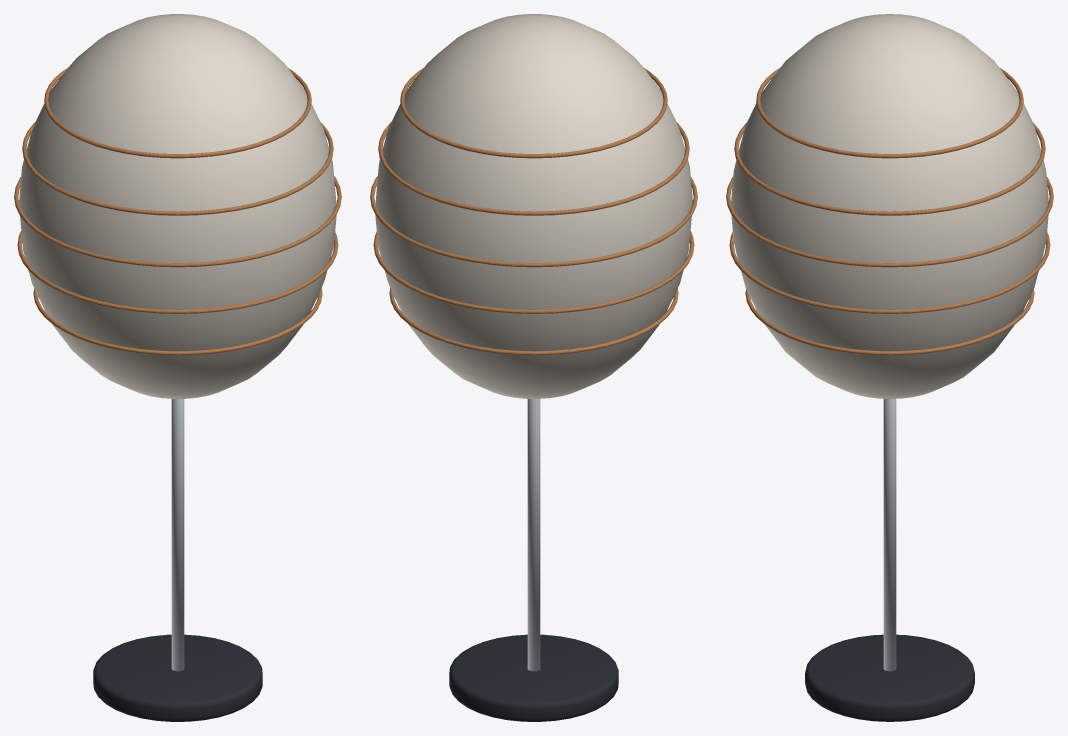
The model's file is lamp.glb.
3 renders of one model, left to right at view 1: azimuth 30°, elevation 25°; view 2: azimuth 150°, elevation 25°; view 3: azimuth 270°, elevation 25°, orthographic.
Parts seen in each view (by area): view 1: shade, base.001, pole, Torus.002, Torus.003, Torus.001, Torus.004, Torus; view 2: shade, base.001, pole, Torus.002, Torus.003, Torus.001, Torus.004, Torus; view 3: shade, base.001, pole, Torus.002, Torus.003, Torus.001, Torus.004, Torus.
Boxes of the visible parts, bbox=[...] form: shade: bbox=[19, 14, 336, 398]; base.001: bbox=[93, 634, 262, 721]; pole: bbox=[171, 399, 184, 671]; Torus.002: bbox=[14, 176, 341, 267]; Torus.003: bbox=[22, 122, 333, 215]; Torus.001: bbox=[17, 231, 338, 313]; Torus.004: bbox=[44, 68, 311, 158]; Torus: bbox=[33, 288, 322, 355]; shade: bbox=[375, 14, 692, 398]; base.001: bbox=[449, 634, 618, 721]; pole: bbox=[527, 399, 540, 671]; Torus.002: bbox=[370, 176, 697, 267]; Torus.003: bbox=[378, 122, 689, 215]; Torus.001: bbox=[373, 231, 694, 313]; Torus.004: bbox=[400, 68, 667, 158]; Torus: bbox=[389, 288, 678, 355]; shade: bbox=[731, 14, 1048, 398]; base.001: bbox=[805, 634, 974, 721]; pole: bbox=[883, 398, 896, 671]; Torus.002: bbox=[726, 177, 1053, 267]; Torus.003: bbox=[734, 122, 1045, 215]; Torus.001: bbox=[729, 232, 1050, 313]; Torus.004: bbox=[756, 67, 1023, 158]; Torus: bbox=[745, 289, 1034, 355].
Size of the model in its own units: 0.6171 by 1.38 by 0.6171.
